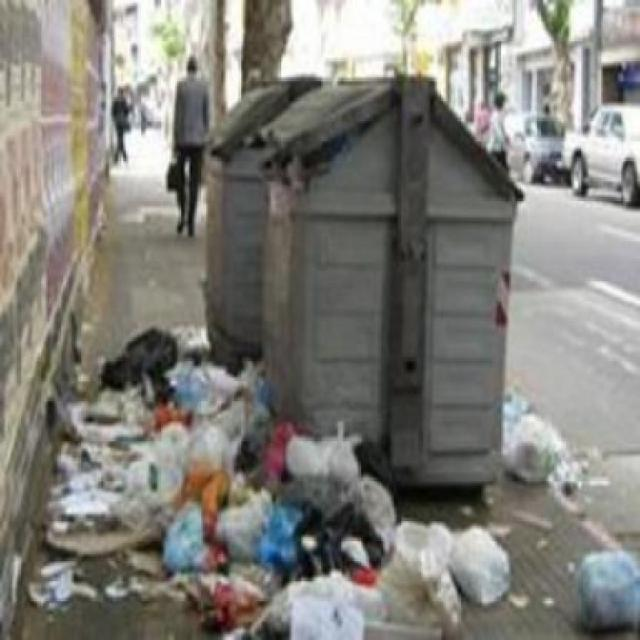garbage: (42, 325, 514, 631), (585, 529, 636, 630), (518, 421, 576, 484)
